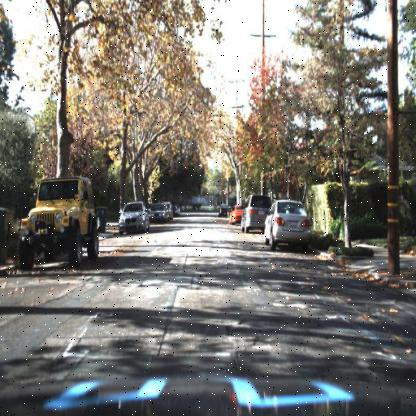car: (17, 171, 98, 270), (260, 196, 314, 252), (262, 196, 312, 247), (241, 192, 273, 230), (238, 191, 263, 237), (118, 198, 148, 231), (148, 200, 171, 223), (226, 203, 244, 228)
